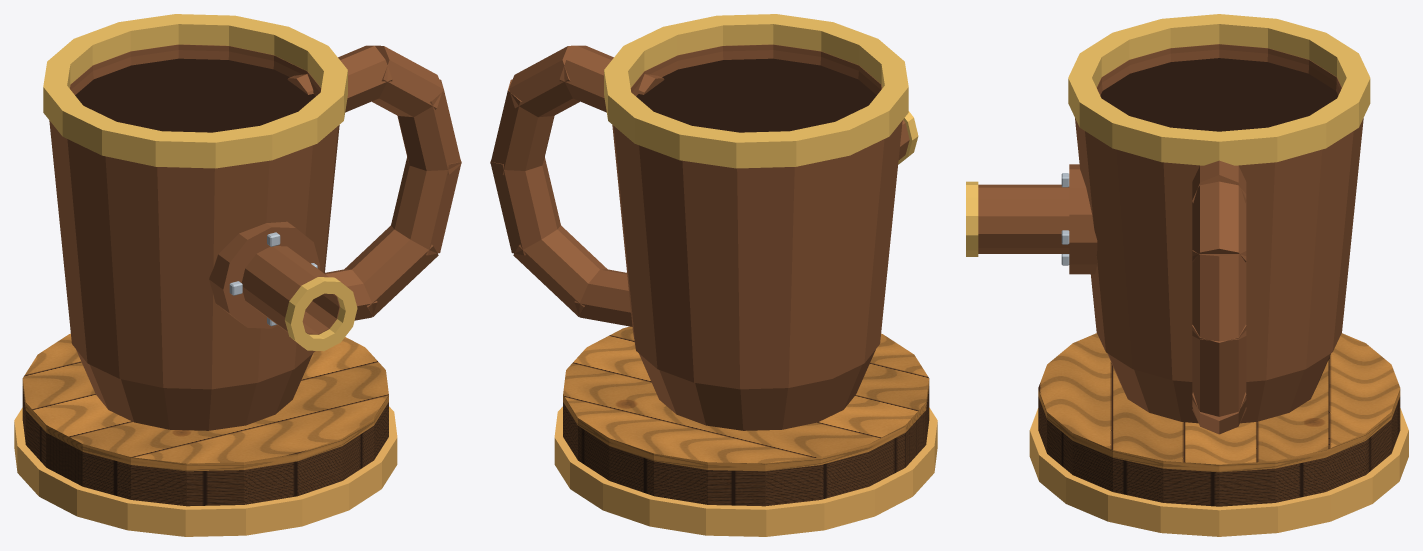
Rendered from CoffeeMug.glb.
3 views of the same model, side by side, from view 1: azimuth 30°, elevation 25°; view 2: azimuth 150°, elevation 25°; view 3: azimuth 270°, elevation 25° (orthographic).
Visible parts, largest first — view 1: CoffeeMug, pedestal, rim; view 2: CoffeeMug, pedestal, rim; view 3: CoffeeMug, pedestal, rim.
Boxes of the visible parts, x1,y1,x2,y2 form: CoffeeMug: (43, 14, 461, 430); pedestal: (22, 333, 388, 506); rim: (14, 406, 397, 536); CoffeeMug: (490, 14, 918, 430); pedestal: (563, 326, 929, 506); rim: (554, 406, 937, 536); CoffeeMug: (966, 14, 1370, 434); pedestal: (1038, 333, 1400, 506); rim: (1029, 408, 1408, 536).
Size of the model in its own units: 1.13 by 0.98 by 1.05.
8 materials, 2 textured.
